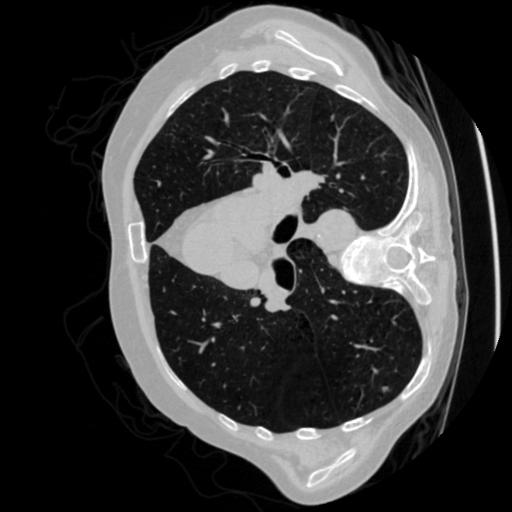nodule: (380, 384, 392, 396)
